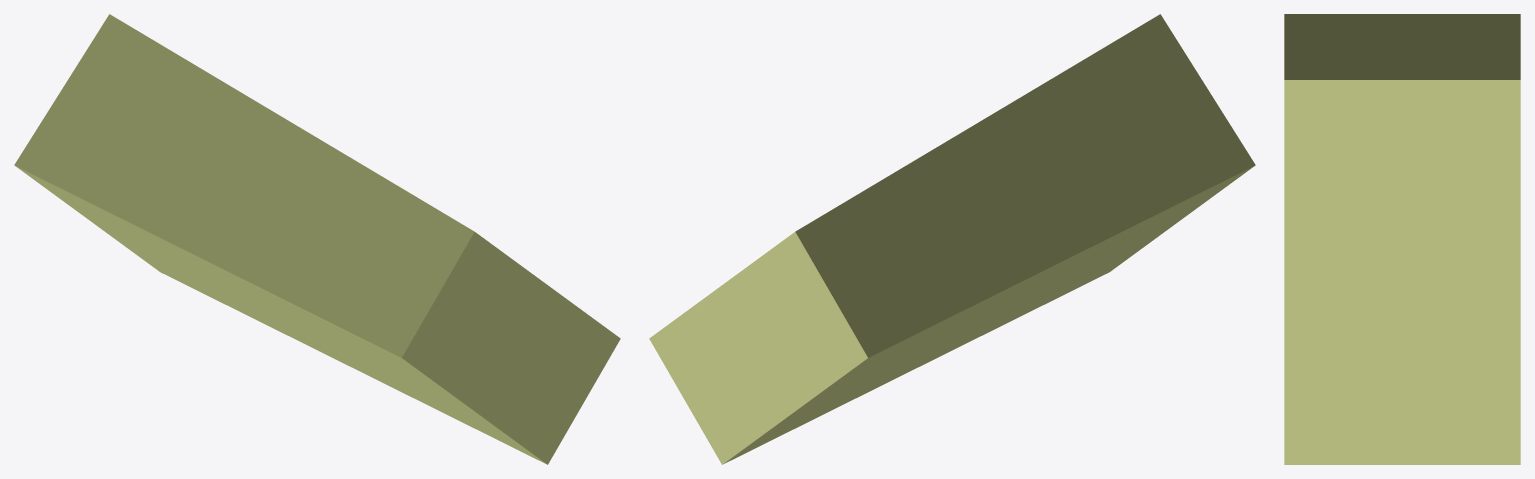
3 views of the same model, side by side, from view 1: azimuth 30°, elevation 25°; view 2: azimuth 150°, elevation 25°; view 3: azimuth 270°, elevation 25° (orthographic). The views are drawn at different scales.
Visible parts, largest first — view 1: 0_1_0_2_0_0_0_0_0_0_2; view 2: 0_1_0_2_0_0_0_0_0_0_2; view 3: 0_1_0_2_0_0_0_0_0_0_2.
Boxes of the visible parts, x1,y1,x2,y2 form: 0_1_0_2_0_0_0_0_0_0_2: (14, 14, 620, 464); 0_1_0_2_0_0_0_0_0_0_2: (649, 14, 1255, 464); 0_1_0_2_0_0_0_0_0_0_2: (1284, 14, 1520, 464).
Bounding box in the file's own units: 10.92 × 9.41 × 6.
